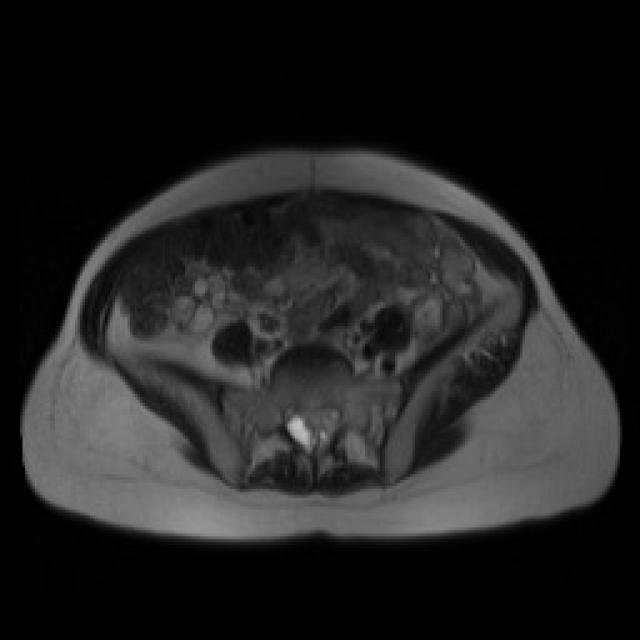sag: (171, 267, 228, 336)
sol: (410, 288, 446, 336)
